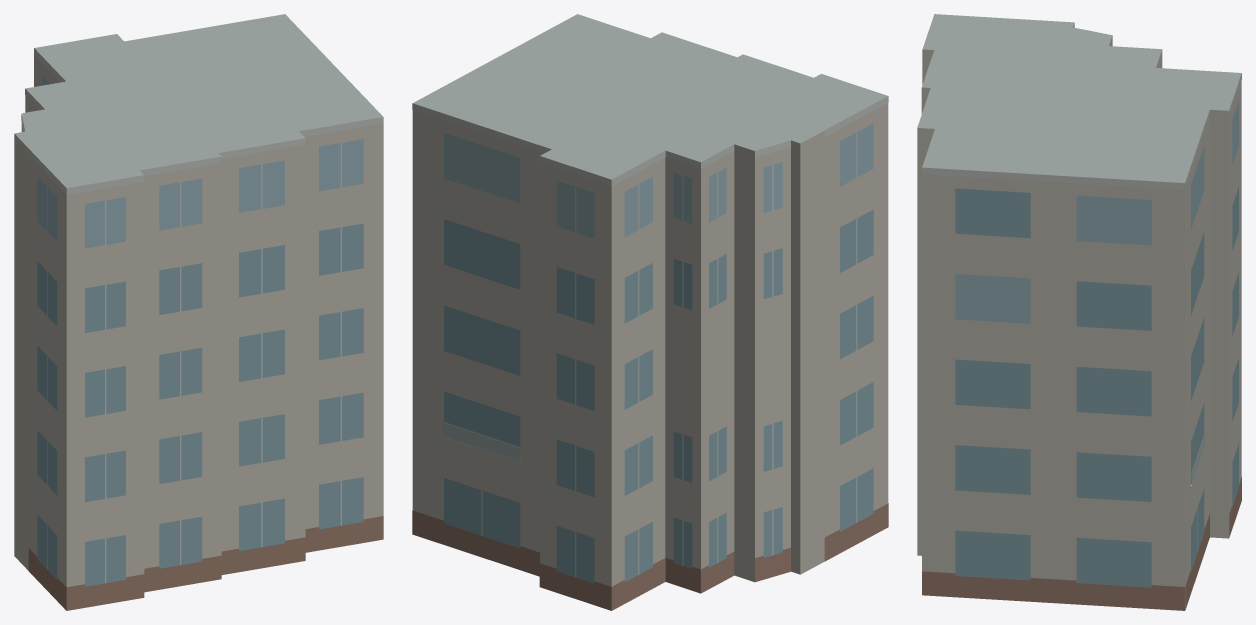
The model's file is survey-upis-32667171.glb.
The picture shows the model from 3 angles, left to right: view 1: azimuth 30°, elevation 25°; view 2: azimuth 150°, elevation 25°; view 3: azimuth 270°, elevation 25°; orthographic projection. The views are drawn at different scales.
Parts seen in each view (by area): view 1: survey-upis-32667171.tmp; view 2: survey-upis-32667171.tmp; view 3: survey-upis-32667171.tmp.
Part boxes in pixels (x1,y1,x2,y2): survey-upis-32667171.tmp: (14,14,383,610); survey-upis-32667171.tmp: (412,14,888,610); survey-upis-32667171.tmp: (917,14,1241,610).
Size of the model in its own units: 13.41 by 15.8 by 10.88.
